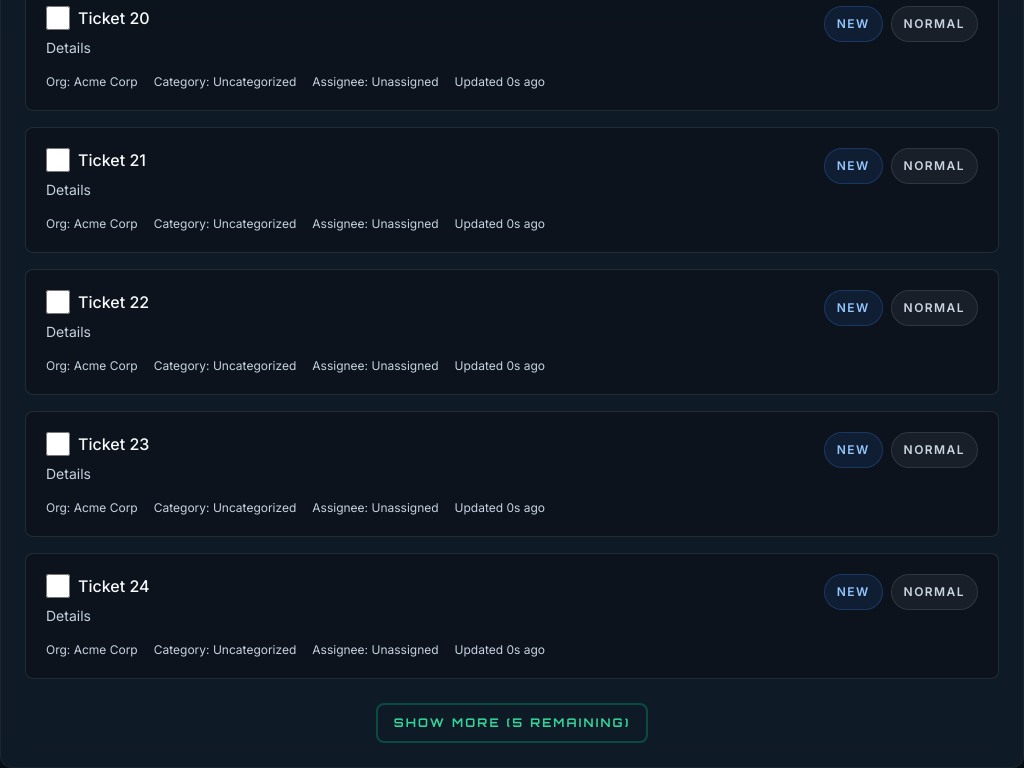
AdminTicketCenterClient › loads further pages from the server beyond the initial fetch (USE-P2-002)
The image size is (1024, 768).
(page scrolled)
Click the button "Show more (5 remaining)" at (512, 723), box [376,703,648,743]
(page scrolled)
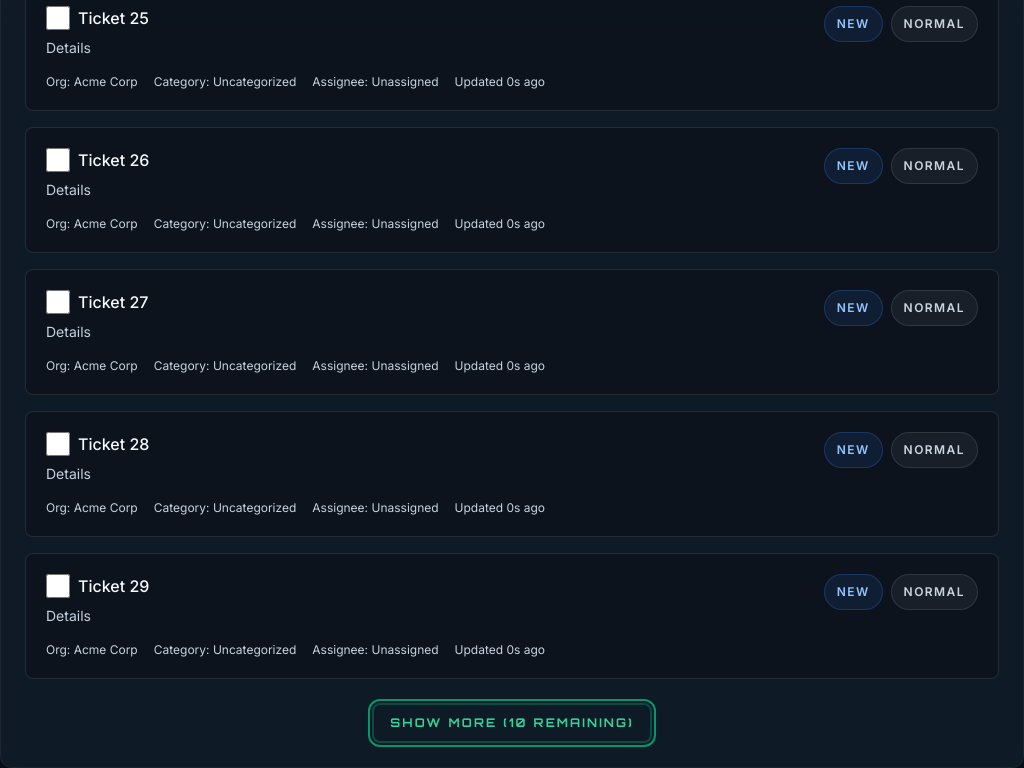
Click the button "Show more (10 remaining)" at (512, 723), box [372,703,652,743]
(page scrolled)
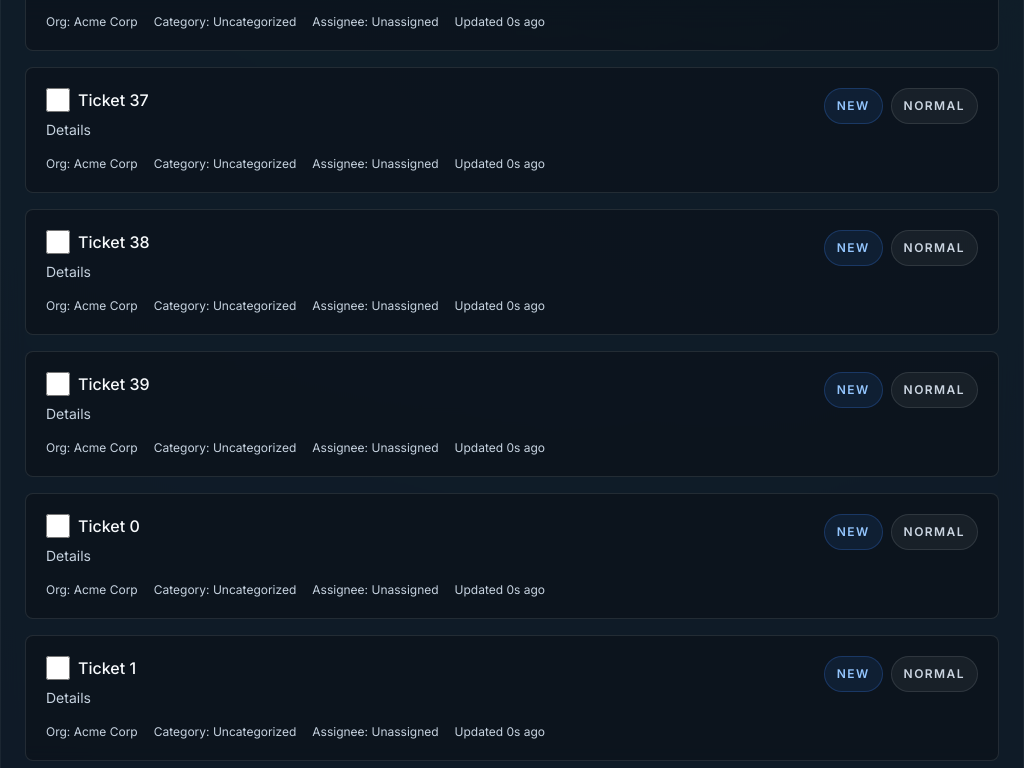
expect the link "Ticket 39" is shown: met, box [78,372,150,396]
expect the button "Show more" is gone: met
